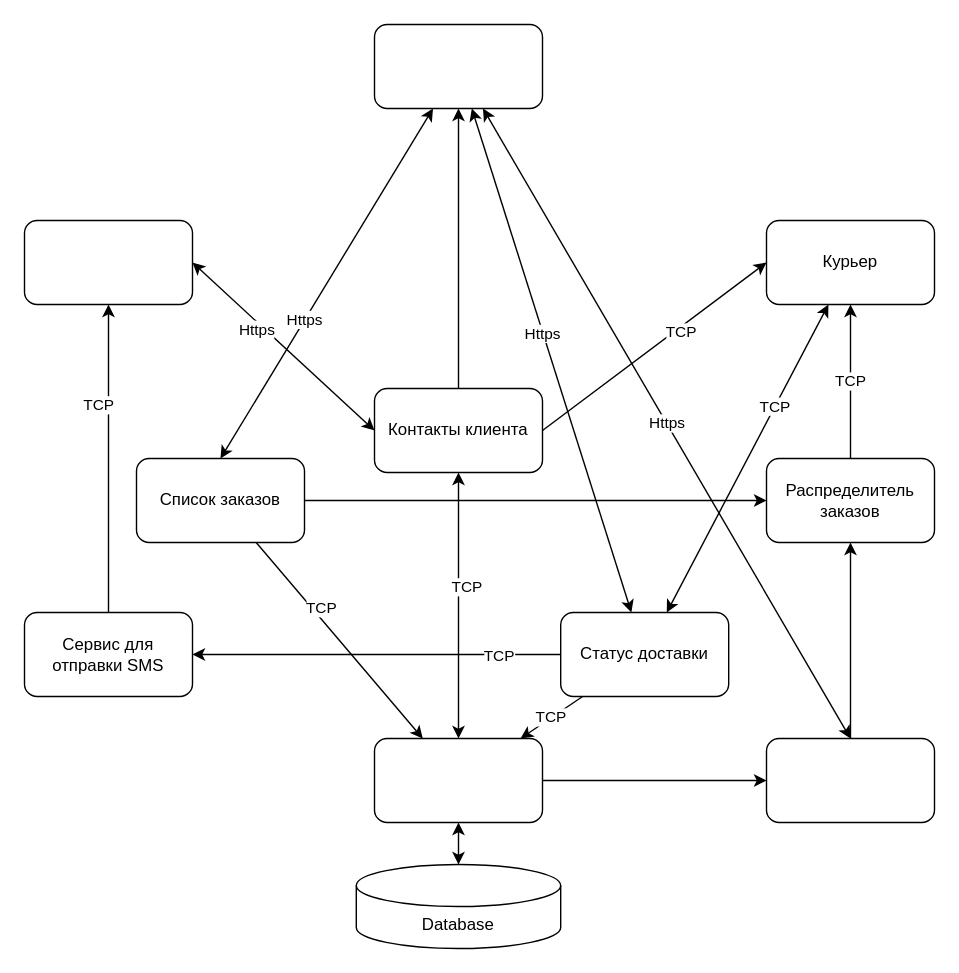
Image size: 959x973. Some labels were removed from this diagram. The centre of each missing label's shape, as x and y in pixels:
SQLite3: the point at 457,779
Информация о курьерах и зонах доставки: the point at 849,779
Клиент: the point at 107,261
Менеджер: the point at 457,65
